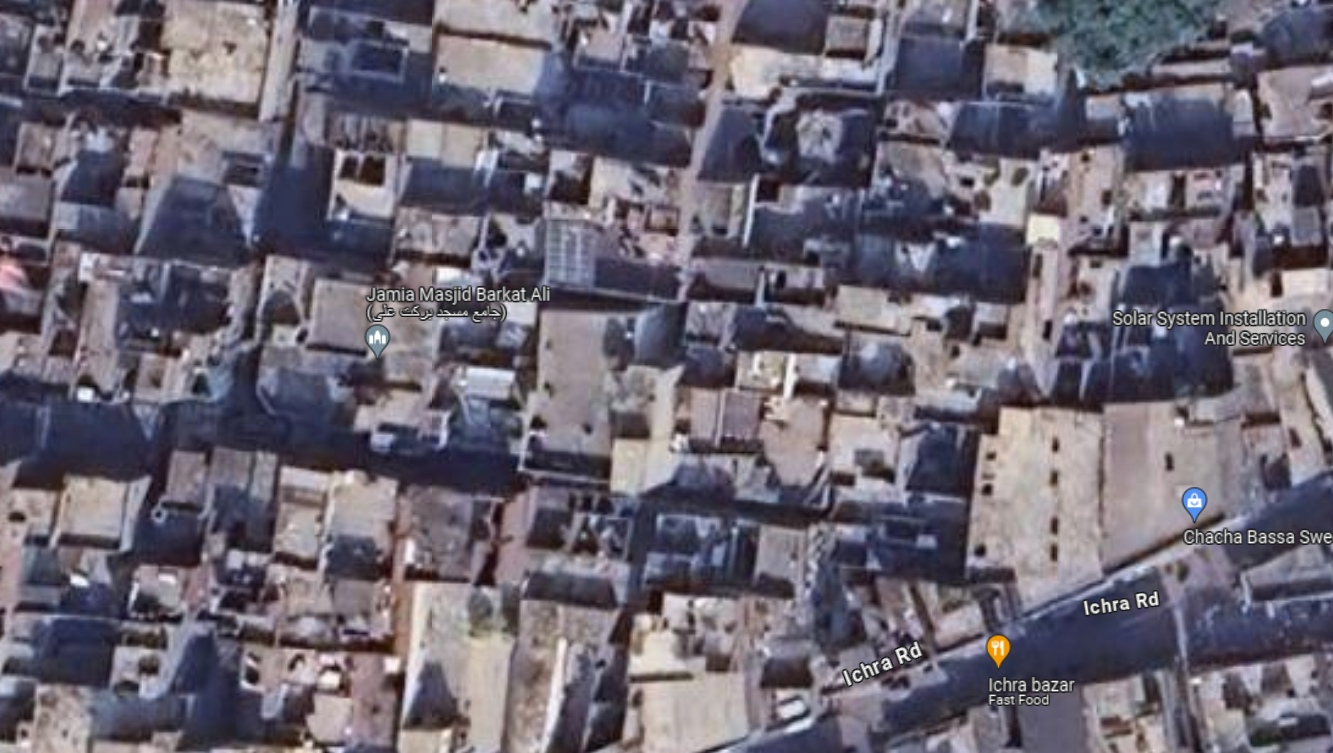solar-panel: (538, 219, 600, 293)
